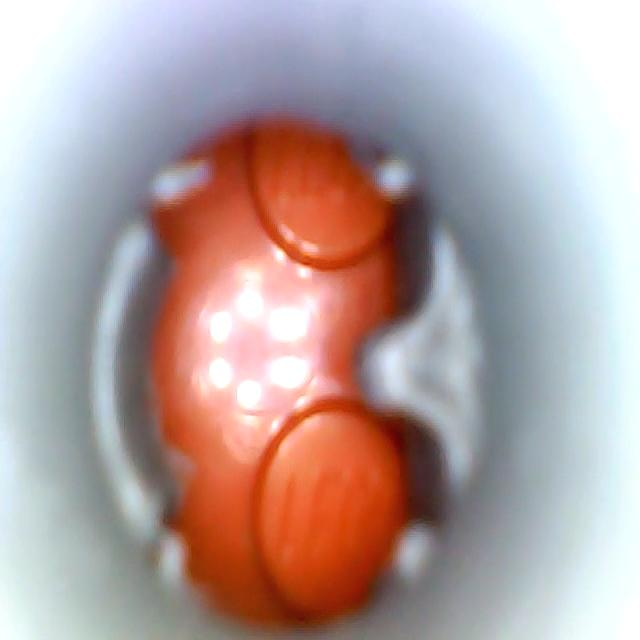studs: (252, 397, 407, 619), (245, 128, 389, 269)
